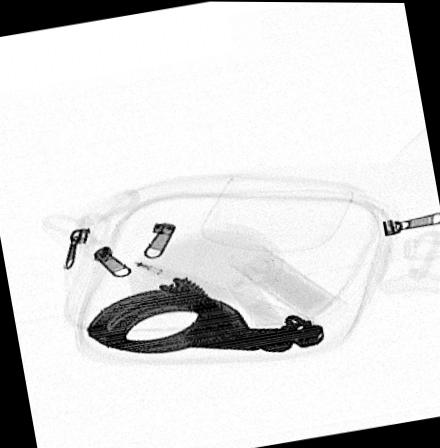HandCuffs: (80, 270, 326, 353)
